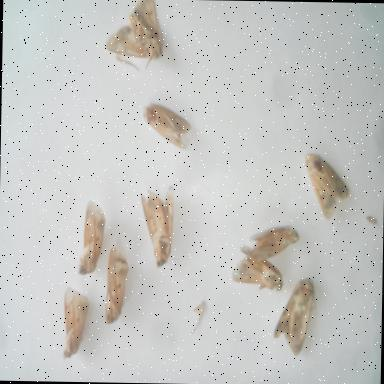abw: (102, 0, 166, 78), (270, 272, 320, 360), (298, 150, 352, 225), (225, 239, 290, 299), (136, 182, 179, 272), (72, 197, 111, 281), (242, 221, 304, 270), (58, 280, 94, 364), (140, 100, 194, 153), (100, 242, 131, 329)
